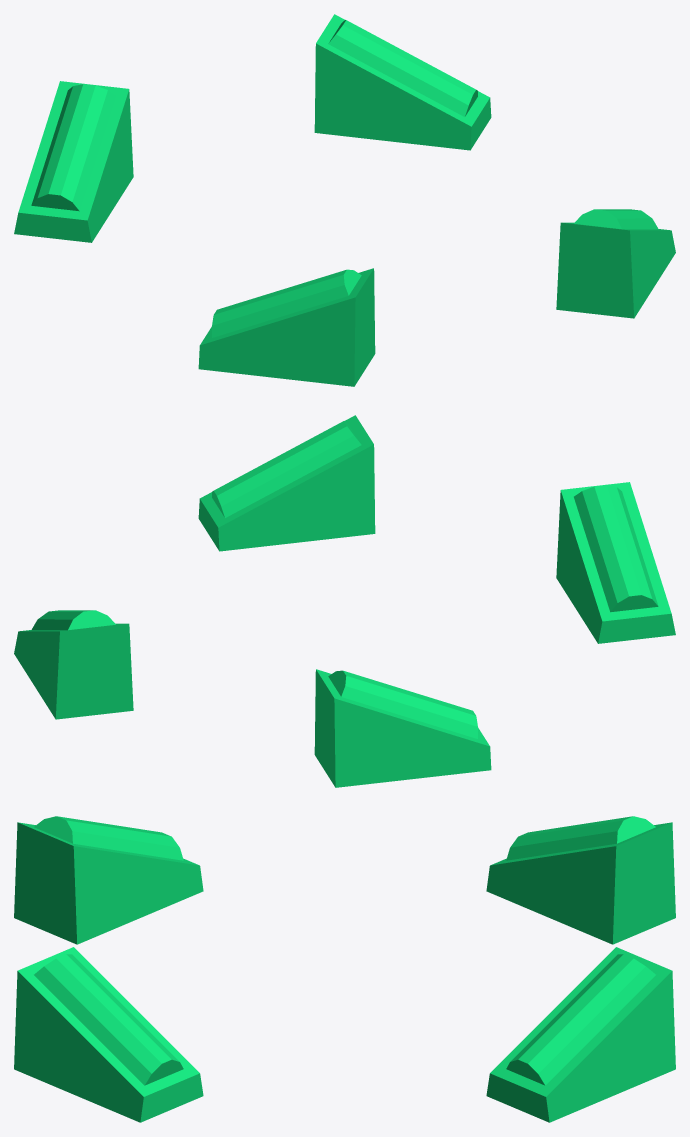
The model's file is StasisRoom_002_StasisPods.fbx.
The picture shows the model from 3 angles, top to bottom: view 1: azimuth 30°, elevation 25°; view 2: azimuth 150°, elevation 25°; view 3: azimuth 270°, elevation 25°; orthographic projection. The views are drawn at different scales.
Parts seen in each view (by area): view 1: StasisRoom_002_StasisPods; view 2: StasisRoom_002_StasisPods; view 3: StasisRoom_002_StasisPods.
Part boxes in pixels (box(x1,y1,x2,y2)): StasisRoom_002_StasisPods: box(14, 14, 675, 386); StasisRoom_002_StasisPods: box(14, 415, 675, 787); StasisRoom_002_StasisPods: box(14, 816, 675, 1122).
Size of the model in its own units: 1367 by 263 by 1481.
